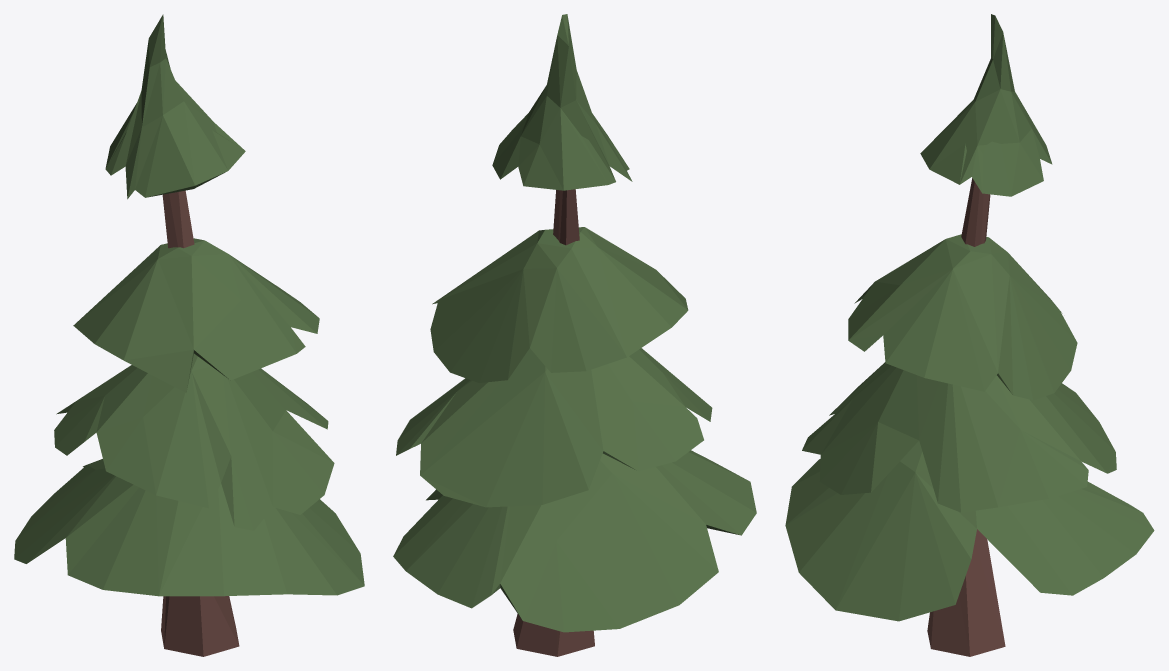
File: PineTree_2.lod2.glb
3 views of the same model, side by side, from view 1: azimuth 30°, elevation 25°; view 2: azimuth 150°, elevation 25°; view 3: azimuth 270°, elevation 25° (orthographic). The views are drawn at different scales.
Visible parts, largest first — view 1: PineTree_2; view 2: PineTree_2; view 3: PineTree_2.
Part boxes in pixels (<box>): PineTree_2: <box>14,14,364,656</box>; PineTree_2: <box>393,14,756,656</box>; PineTree_2: <box>785,14,1154,656</box>.
Size of the model in its own units: 1.79 by 3.57 by 1.95.
